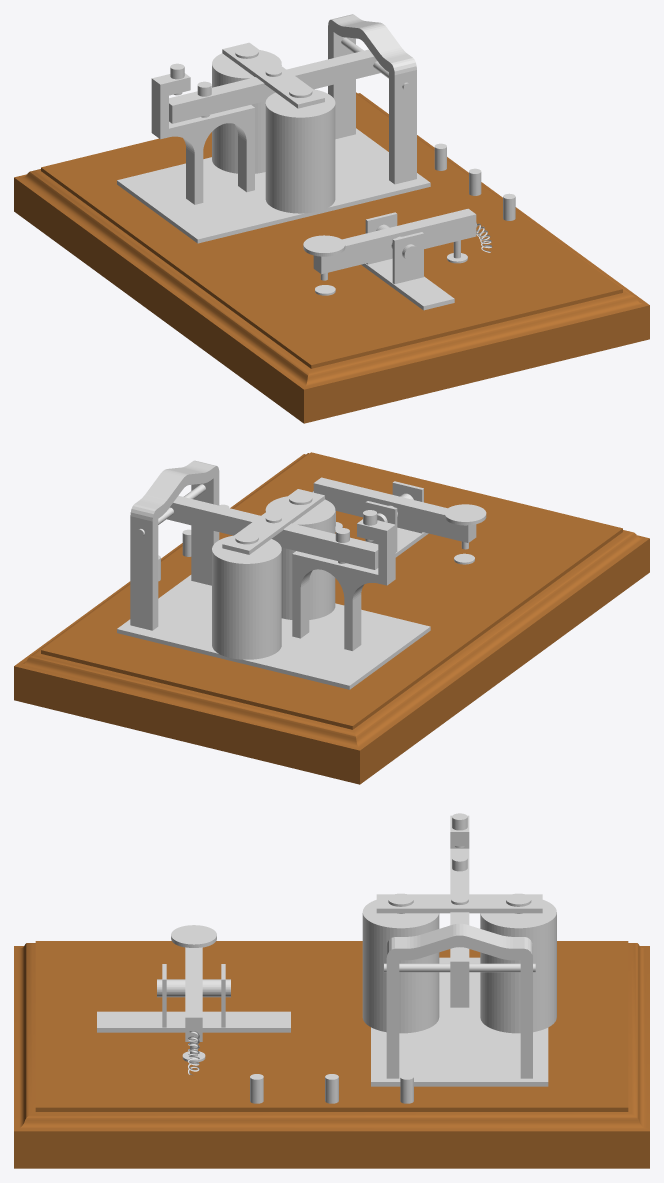
The model's file is morse.glb.
The picture shows the model from 3 angles, top to bottom: view 1: azimuth 30°, elevation 25°; view 2: azimuth 150°, elevation 25°; view 3: azimuth 270°, elevation 25°; orthographic projection. The views are drawn at different scales.
Parts seen in each view (by area): view 1: Cube, Cube.002, Cylinder.007, Cube.005, Soundbar.001, Soundbar, Key, Cylinder.008, Cube x, Cube.001, Cube.004, Cylinder.004; view 2: Cube, Cube.002, Cylinder.008, Cube.005, Soundbar.001, Soundbar, Key, Cylinder.007, Cube x, Cylinder.004, Cube.003, Cube.004 (+1 smaller); view 3: Cube, Cube.002, Cylinder.007, Cylinder.008, Cube.005, Cube.001, Cube x, Soundbar, Key, sounder-axis, Soundbar.001, key-axis (+1 smaller).
Boxes of the visible parts, <box> form: Cube: <box>14,92,649,423</box>; Cube.002: <box>117,128,430,243</box>; Cylinder.007: <box>265,89,335,213</box>; Cube.005: <box>328,14,416,184</box>; Soundbar.001: <box>151,73,254,204</box>; Soundbar: <box>169,49,380,123</box>; Key: <box>313,208,476,274</box>; Cylinder.008: <box>212,50,281,173</box>; Cube x: <box>222,42,324,108</box>; Cube.001: <box>361,258,454,310</box>; Cube.004: <box>392,232,423,284</box>; Cylinder.004: <box>303,235,345,256</box>; Cube: <box>14,452,649,784</box>; Cube.002: <box>117,575,430,689</box>; Cylinder.008: <box>212,535,281,659</box>; Cube.005: <box>130,460,219,630</box>; Soundbar.001: <box>292,519,395,650</box>; Soundbar: <box>167,495,378,569</box>; Key: <box>313,477,476,542</box>; Cylinder.007: <box>265,496,335,619</box>; Cube x: <box>222,489,324,554</box>; Cylinder.004: <box>444,504,486,525</box>; Cube.003: <box>365,501,397,552</box>; Cube.004: <box>392,481,423,533</box>; Cube: <box>14,941,649,1168</box>; Cube.002: <box>371,957,548,1086</box>; Cylinder.007: <box>362,900,439,1033</box>; Cylinder.008: <box>480,900,556,1033</box>; Cube.005: <box>386,923,532,1078</box>; Cube.001: <box>97,1011,290,1032</box>; Cube x: <box>376,894,542,913</box>; Soundbar: <box>450,848,469,981</box>; Key: <box>185,947,202,1041</box>; sounder-axis: <box>384,963,535,972</box>; Soundbar.001: <box>450,815,469,1007</box>; key-axis: <box>157,979,230,997</box>.
Size of the model in its own units: 4.47 by 2.34 by 6.49.
